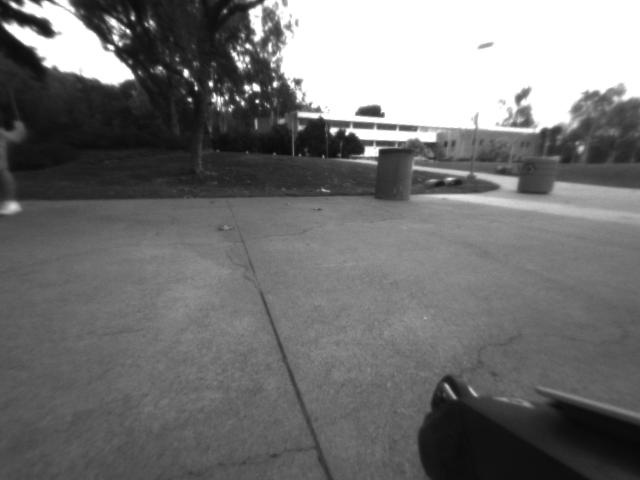trashcan: (376, 146, 416, 209), (519, 152, 558, 202)
